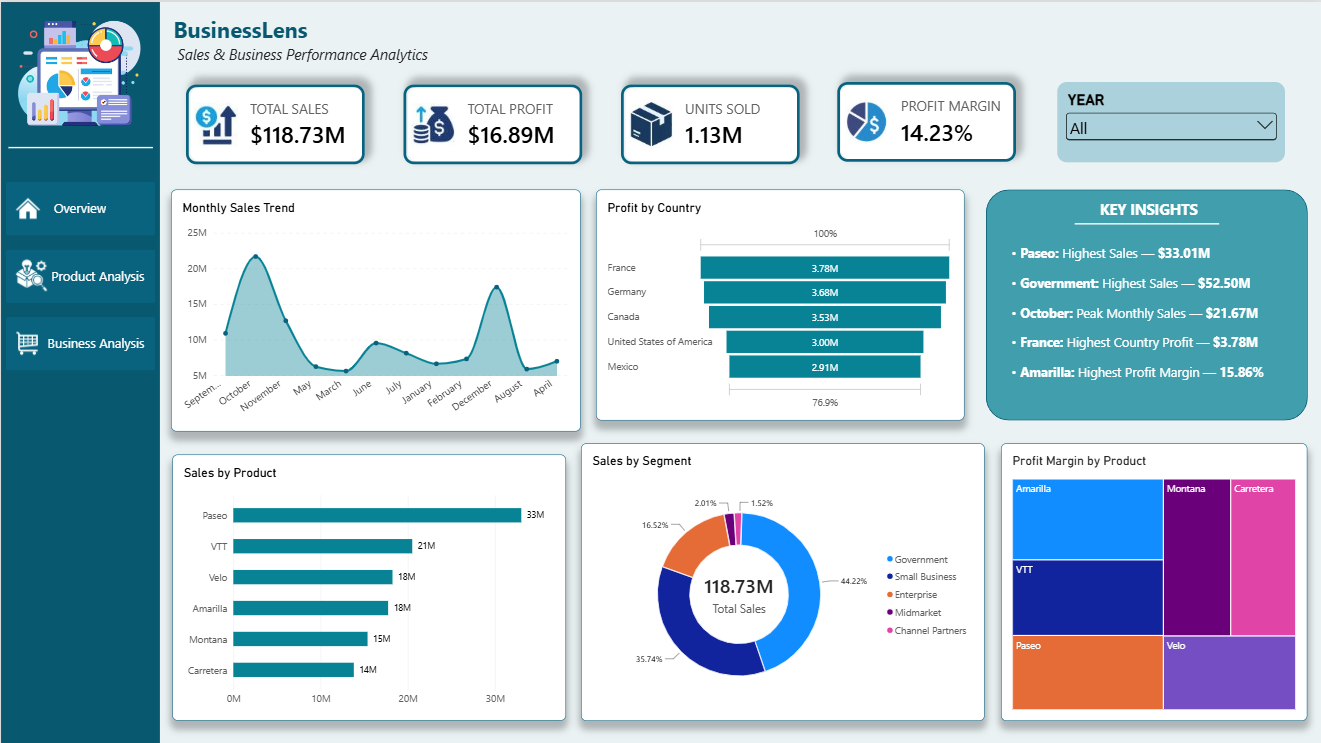

The page's visual inventory and layout, read from the dashboard file:
{"tool":"powerbi","page":{"name":"Overview ","canvas":[1920,1080],"ordinal":0},"visuals":[{"type":"shape","box":[0,0,231,1080],"z":0},{"type":"actionButton","box":[7,360.5,217,78],"z":1000},{"type":"actionButton","box":[7,458,217,78],"z":2000},{"type":"actionButton","box":[6.8,262.6,217,78],"z":3000},{"type":"image","box":[21.2,18.8,185,167.5],"z":4000},{"type":"shape","box":[324,348,210,52.6],"z":5000},{"type":"cardVisual","fields":{"Data":["Sum(cleaned_dataset.Sales)"]},"box":[269.1,119.1,260,116],"z":6000},{"type":"cardVisual","fields":{"Data":["cleaned_dataset.Profit Margin"]},"box":[1217.1,117.1,260,116],"z":7000},{"type":"cardVisual","fields":{"Data":["Sum(cleaned_dataset.Units Sold)"]},"box":[901.4,120,260,116],"z":8000},{"type":"cardVisual","fields":{"Data":["Sum(cleaned_dataset.Profit)"]},"box":[584.5,120,260,116],"z":9000},{"type":"slicer","fields":{"Values":["cleaned_dataset.Year"]},"box":[1537.1,117.1,331.4,117.1],"z":10000},{"type":"areaChart","title":"Monthly Sales Trend","fields":{"Category":["cleaned_dataset.Month Name"],"Y":["Sum(cleaned_dataset.Sales)"]},"box":[248,272,596,352],"z":11000},{"type":"barChart","title":"Sales by Product","fields":{"Category":["cleaned_dataset.Product"],"Y":["Sum(cleaned_dataset.Sales)"]},"box":[248.6,658.6,572.9,387.1],"z":12000},{"type":"donutChart","title":"Sales by Segment","fields":{"Category":["cleaned_dataset.Segment"],"Y":["Sum(cleaned_dataset.Sales)"]},"box":[844.3,641.4,587.1,404.3],"z":13000},{"type":"funnel","title":"Profit by Country","fields":{"Category":["cleaned_dataset.Country"],"Y":["Sum(cleaned_dataset.Profit)"]},"box":[866,272,536,336],"z":14000},{"type":"treemap","title":"Profit Margin by Product","fields":{"Group":["cleaned_dataset.Product"],"Values":["cleaned_dataset.Profit Margin"]},"box":[1454.3,641.4,445.7,404.3],"z":15000},{"type":"shape","box":[1432,272,468,336],"z":16000},{"type":"textbox","box":[1454,288,430,304],"z":17000},{"type":"shape","box":[1561.7,296.7,210,52.6],"z":18000},{"type":"shape","box":[10,186.3,210,52.6],"z":19000},{"type":"textbox","box":[250,18,400,84],"z":20000}]}

Visuals, with their boxes in screenshot pixels (x1, y1, x2, y2), scaled from the page's 1920x1080 canvas onto the 1321x743 screenshot:
shape: 0:0:159:742
actionButton: 5:248:154:302
actionButton: 5:315:154:369
actionButton: 5:181:154:234
image: 15:13:142:128
shape: 223:239:367:276
cardVisual - Sum(cleaned_dataset.Sales): 185:82:364:162
cardVisual - cleaned_dataset.Profit Margin: 837:81:1016:160
cardVisual - Sum(cleaned_dataset.Units Sold): 620:83:799:162
cardVisual - Sum(cleaned_dataset.Profit): 402:83:581:162
slicer - cleaned_dataset.Year: 1058:81:1286:161
"Monthly Sales Trend" areaChart: 171:187:581:429
"Sales by Product" barChart: 171:453:565:719
"Sales by Segment" donutChart: 581:441:985:719
"Profit by Country" funnel: 596:187:965:418
"Profit Margin by Product" treemap: 1001:441:1307:719
shape: 985:187:1307:418
textbox: 1000:198:1296:407
shape: 1074:204:1219:240
shape: 7:128:151:164
textbox: 172:12:447:70
